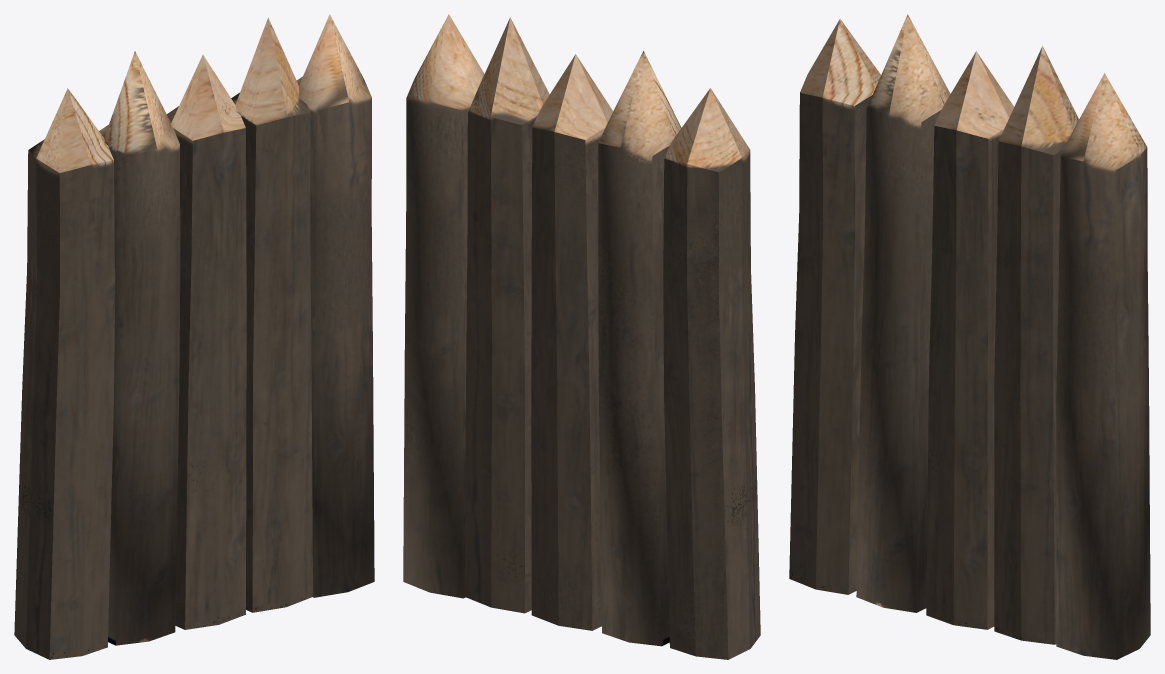
The model's file is Wall.fbx.
The picture shows the model from 3 angles, left to right: view 1: azimuth 30°, elevation 25°; view 2: azimuth 150°, elevation 25°; view 3: azimuth 330°, elevation 25°; orthographic projection.
Parts seen in each view (by area): view 1: Cube.002; view 2: Cube.002; view 3: Cube.002.
Part boxes in pixels (x1,y1,x2,y2): Cube.002: (14, 14, 374, 659); Cube.002: (403, 14, 760, 659); Cube.002: (789, 14, 1150, 659).
Bounding box in the file's own units: 144 × 236 × 30.96.
